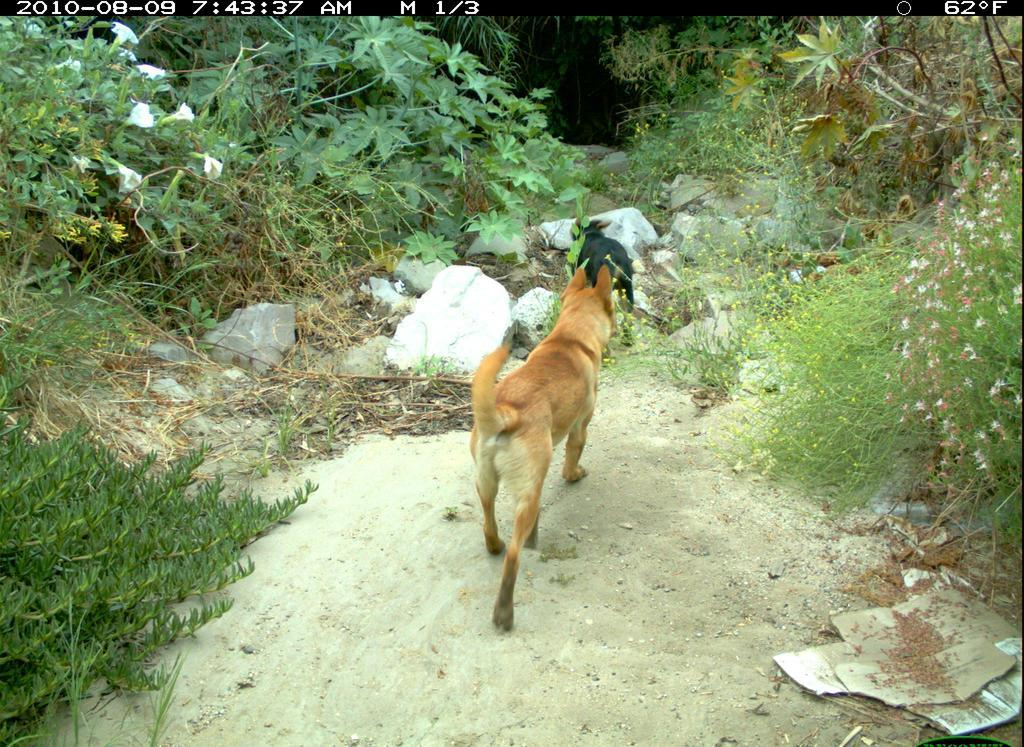dog: (461, 267, 641, 638), (565, 210, 652, 312)
